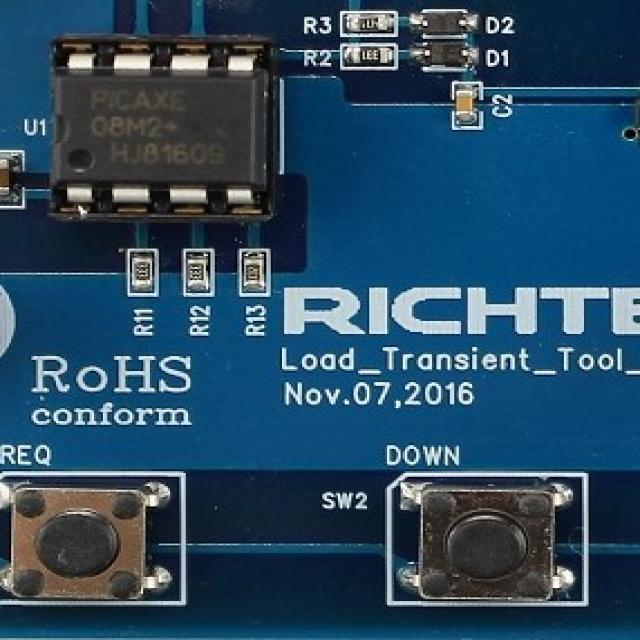2235: (402, 476, 579, 606), (0, 478, 174, 609)
IC: (48, 32, 282, 224)
capacitor 1V5: (0, 158, 25, 205), (452, 84, 480, 122)
diode -D1-: (414, 39, 482, 67), (411, 13, 476, 36)
resistor IR1: (178, 251, 207, 298), (131, 253, 159, 299), (236, 245, 262, 291), (345, 17, 393, 36), (354, 49, 394, 68)
